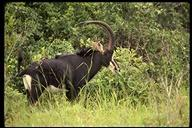antelope: (17, 19, 122, 107)
grass: (7, 107, 187, 124)
tree: (137, 27, 188, 99)
